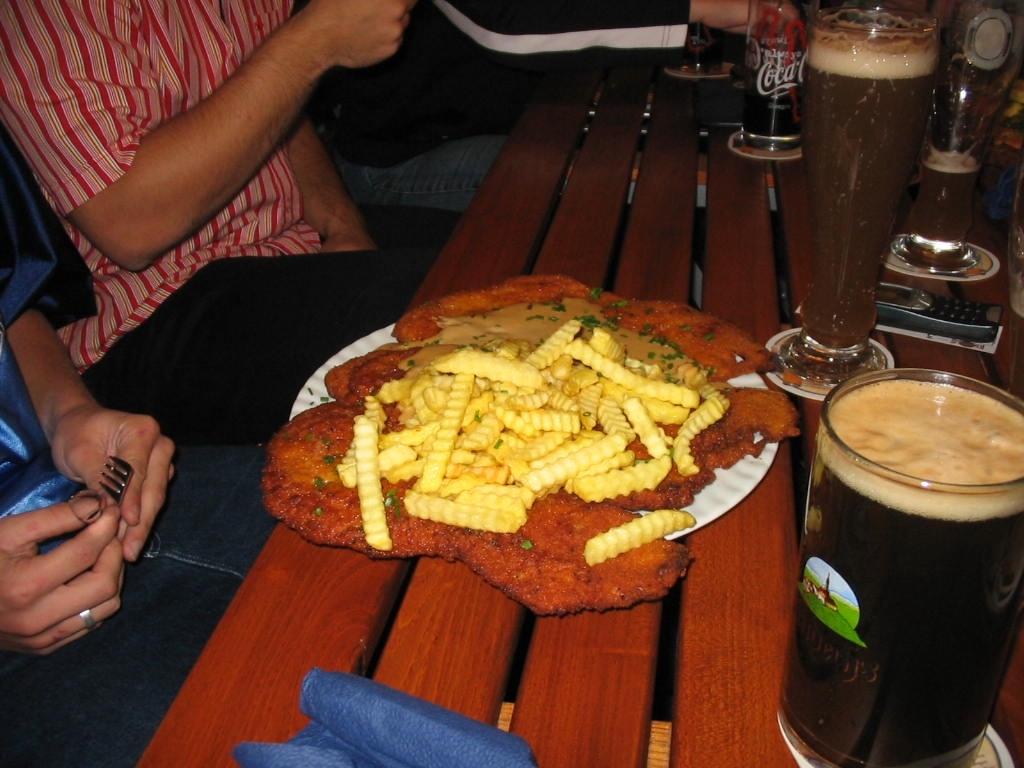French fries: (339, 312, 728, 559)
